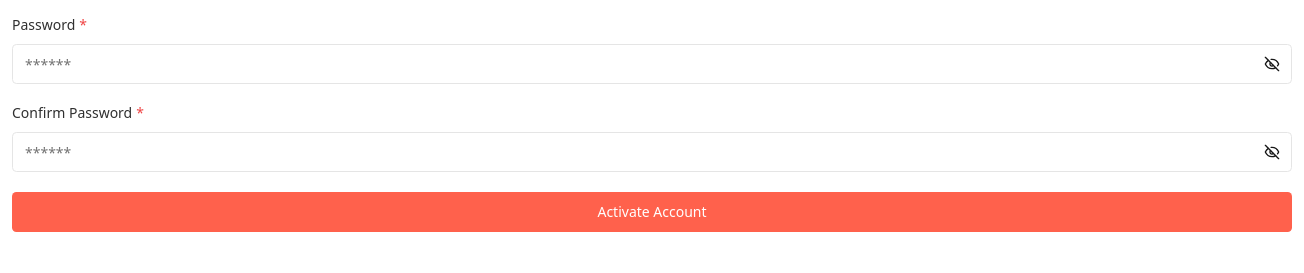
Test: ActivateAccForm › validates form fields
Type "newpassword" into the password field named "Password" at point(652, 64), box [12,44,1292,84]
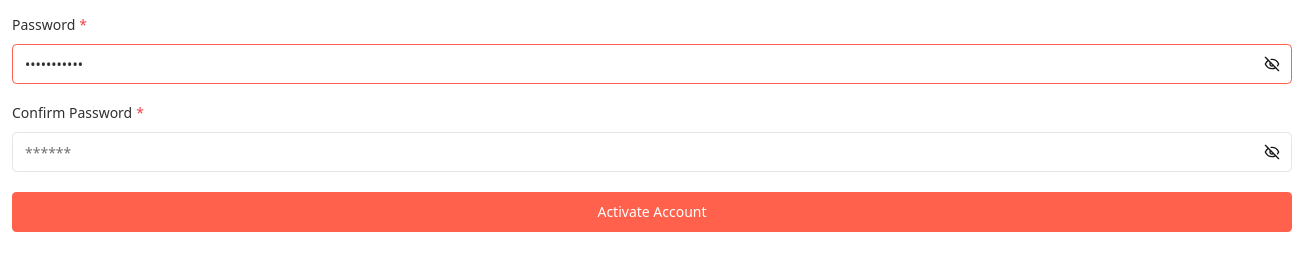
Type "differentpassword" into the password field named "Confirm Password" at point(652, 152), box [12,132,1292,172]
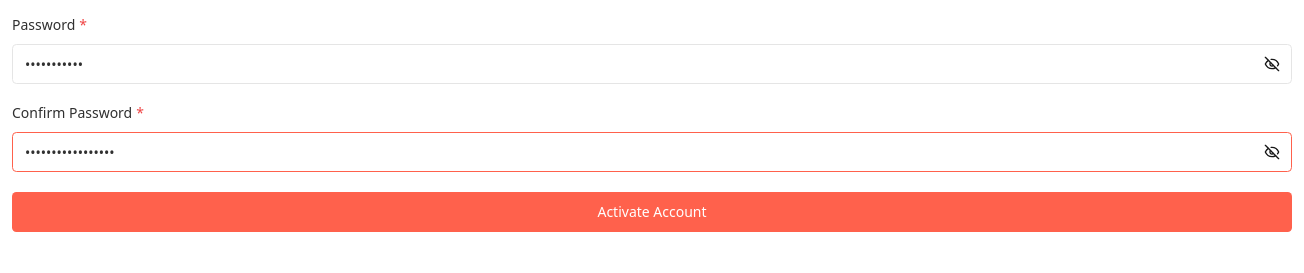
Click the button "Activate Account" at point(652, 212), box [12,192,1292,232]
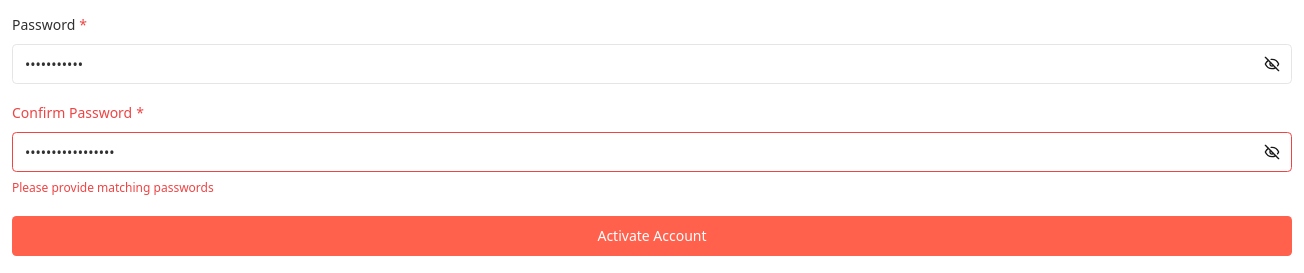
Expected: the text "Please provide matching passwords" is shown, [12,179,214,196]
